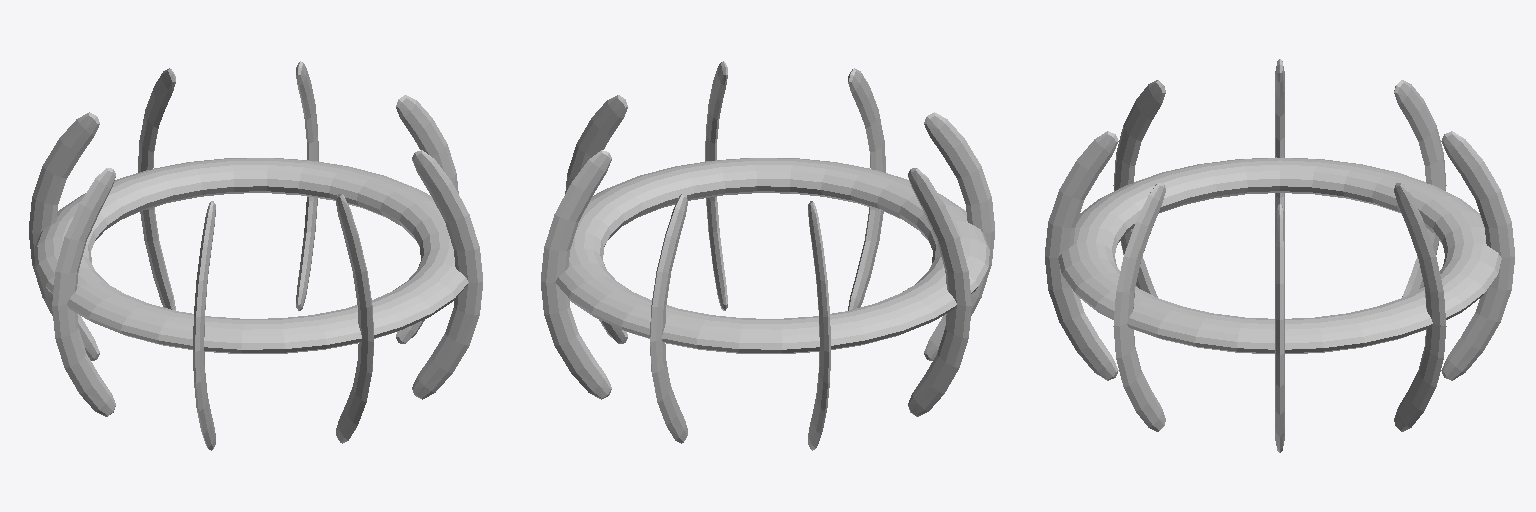
The model's file is warpstation.obj.
3 renders of one model, left to right at view 1: azimuth 30°, elevation 25°; view 2: azimuth 150°, elevation 25°; view 3: azimuth 270°, elevation 25°, orthographic.
Visible parts, largest first — view 1: Circle.011; view 2: Circle.011; view 3: Circle.011.
Boxes of the visible parts, x1=… form: Circle.011: x1=29, y1=61, x2=482, y2=450; Circle.011: x1=541, y1=61, x2=994, y2=450; Circle.011: x1=1045, y1=59, x2=1514, y2=452.
Size of the model in its own units: 39.21 by 22.94 by 39.21.